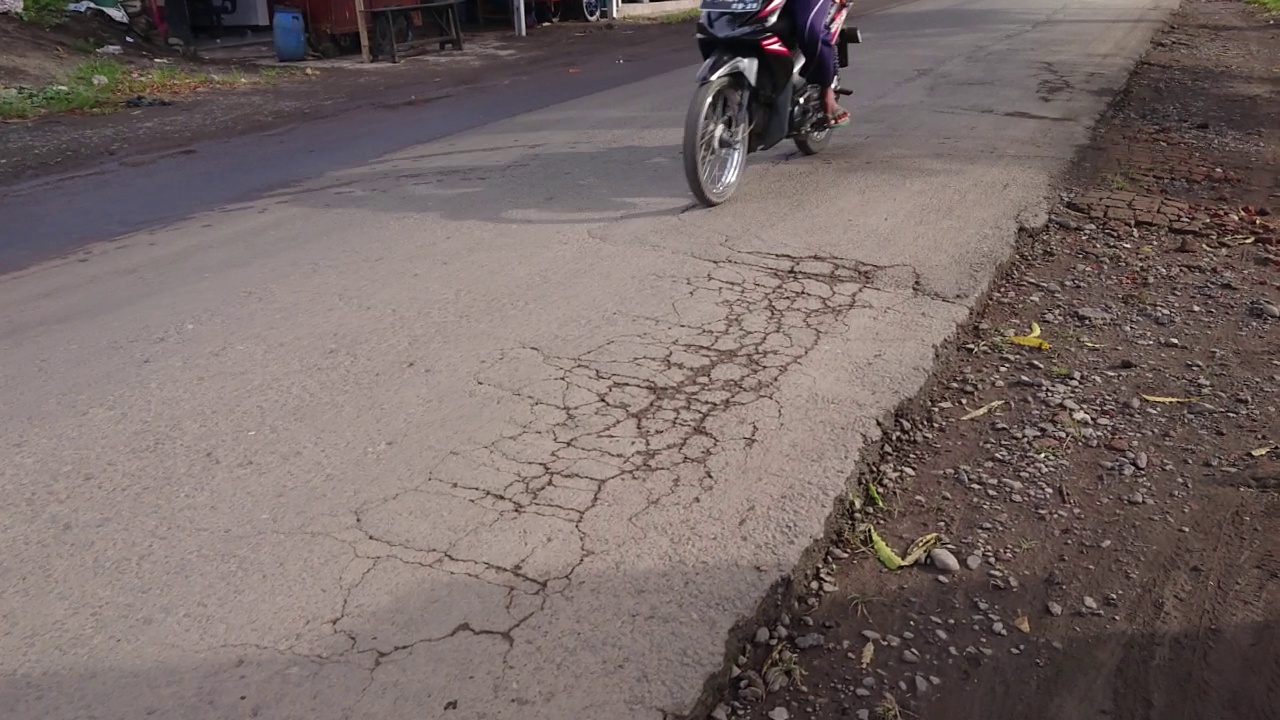Retak: (381, 259, 836, 668), (1031, 49, 1130, 123)
